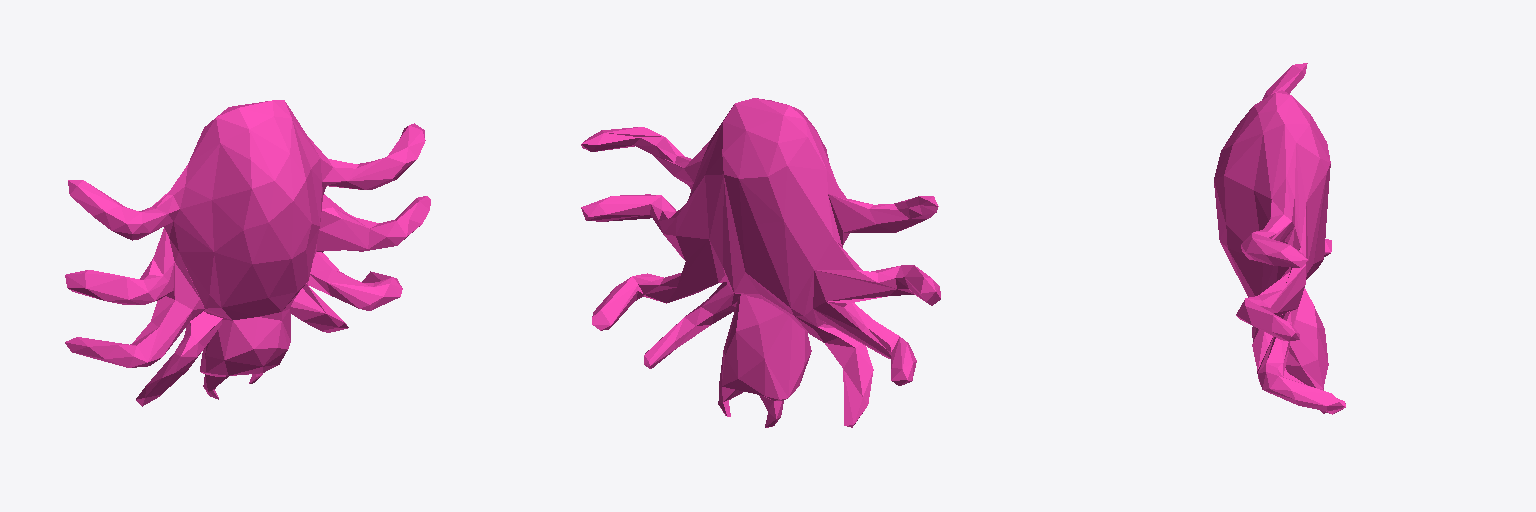
3 views of the same model, side by side, from view 1: azimuth 30°, elevation 25°; view 2: azimuth 150°, elevation 25°; view 3: azimuth 270°, elevation 25° (orthographic).
Visible parts, largest first — view 1: Cube; view 2: Cube; view 3: Cube.
Boxes of the visible parts, x1,y1,x2,y2 form: Cube: [65, 100, 430, 406]; Cube: [581, 98, 940, 427]; Cube: [1214, 63, 1345, 414].
Size of the model in its own units: 21.02 by 17.1 by 6.66.
1 materials, 1 textured.